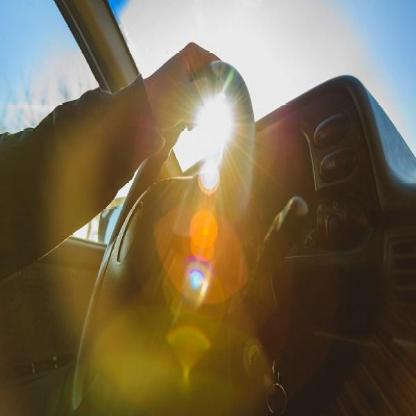other: (160, 165, 245, 359), (188, 93, 240, 156)
